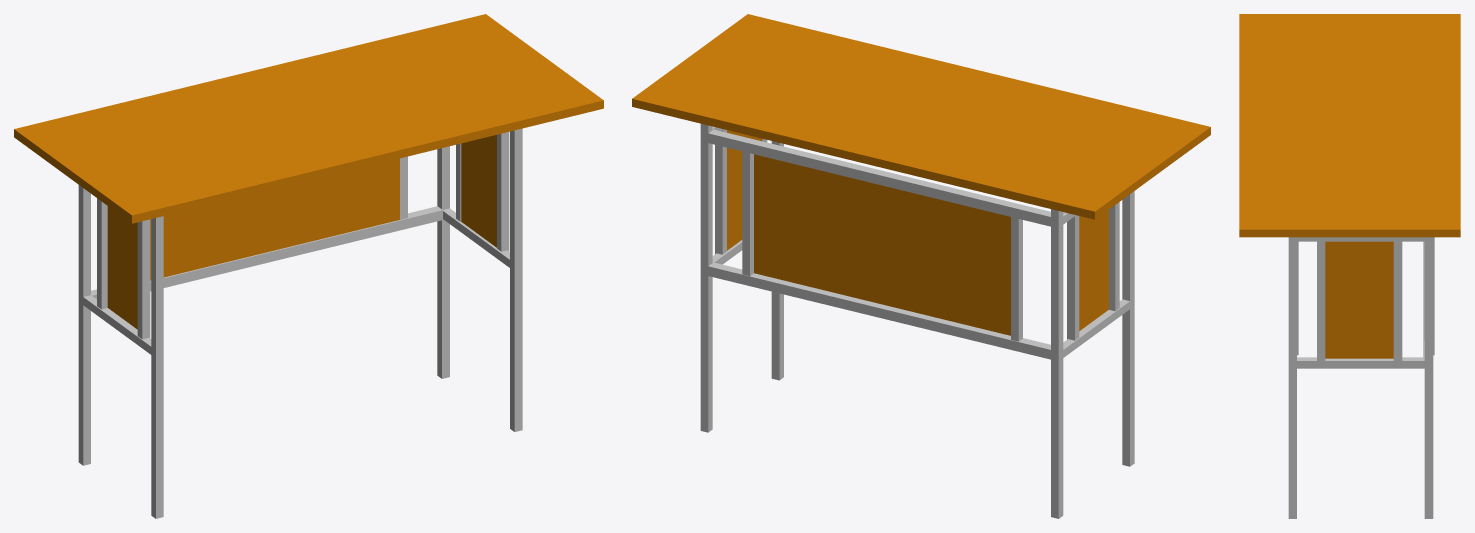
Rendered from MesitaEscritorio.fbx.
3 views of the same model, side by side, from view 1: azimuth 30°, elevation 25°; view 2: azimuth 150°, elevation 25°; view 3: azimuth 270°, elevation 25° (orthographic). The views are drawn at different scales.
Visible parts, largest first — view 1: tablas, patas; view 2: tablas, patas; view 3: tablas, patas.
Boxes of the visible parts, x1,y1,x2,y2 form: tablas: (14,14,603,329); patas: (78,128,522,518); tablas: (632,14,1210,335); patas: (700,123,1134,518); tablas: (1239,14,1460,358); patas: (1288,237,1434,518).
Size of the model in its own units: 150 by 102 by 65.
